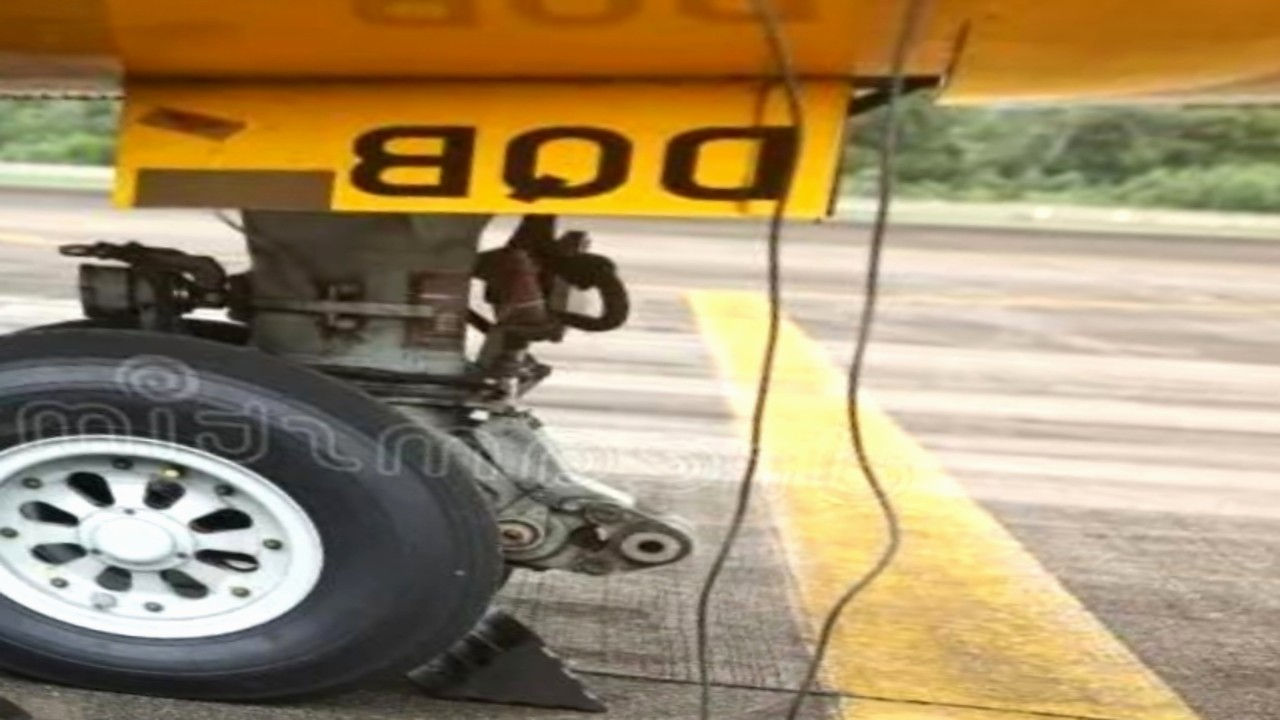chock: (379, 597, 642, 714), (0, 685, 102, 720)
wheel: (0, 257, 618, 720)
